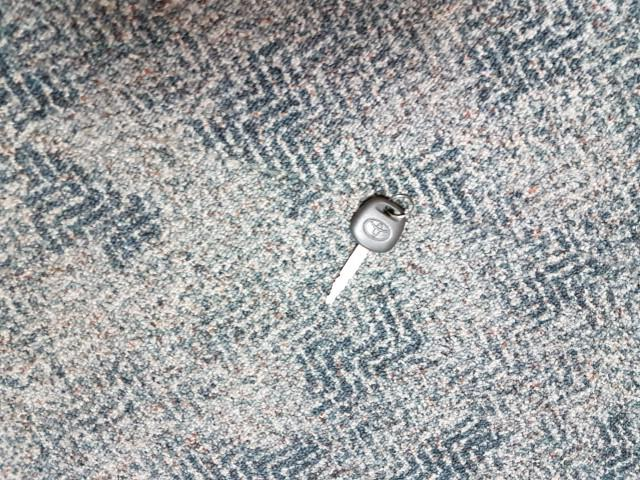key: (318, 193, 409, 306)
